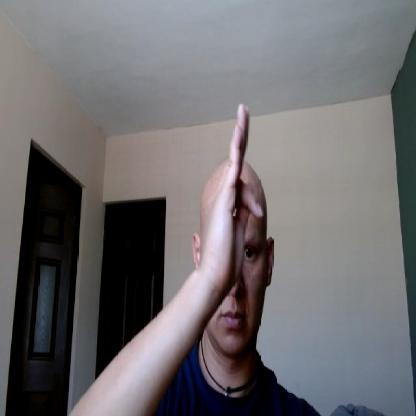F: (200, 102, 264, 292)
